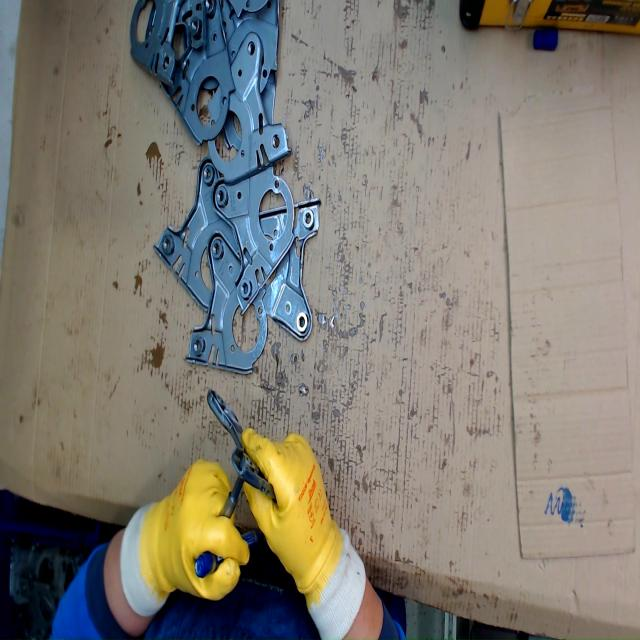hands: (242, 427, 344, 605), (143, 458, 251, 602)
